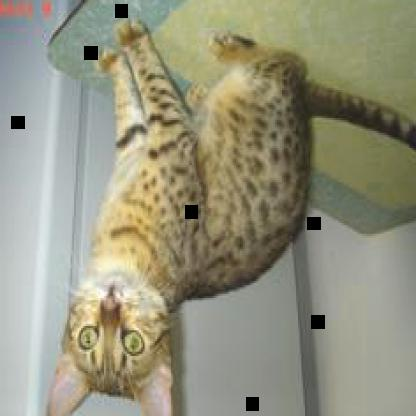cat: (46, 15, 415, 415)
